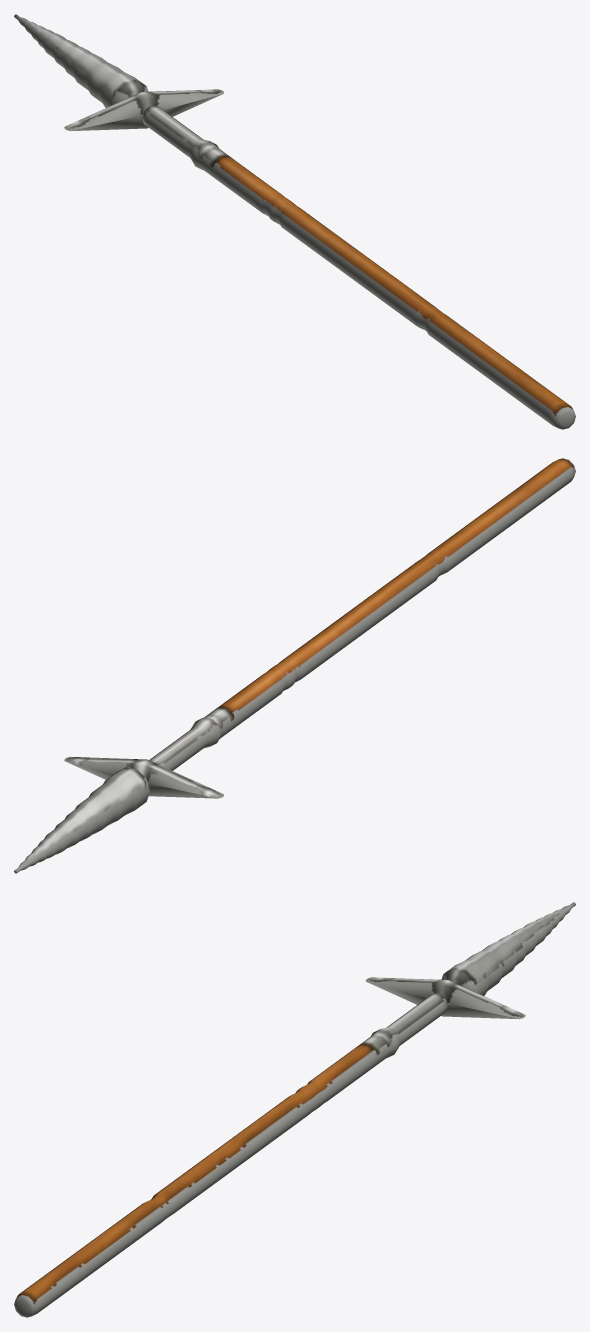
File: item_mm9_10057.glb
The picture shows the model from 3 angles, top to bottom: view 1: azimuth 30°, elevation 25°; view 2: azimuth 150°, elevation 25°; view 3: azimuth 330°, elevation 25°; orthographic projection.
Parts seen in each view (by area): view 1: d10057; view 2: d10057; view 3: d10057.
Part boxes in pixels (bbox=[...]): d10057: bbox=[14, 14, 575, 429]; d10057: bbox=[14, 458, 575, 873]; d10057: bbox=[14, 902, 575, 1317].
Bounding box in the file's own units: 42.45 × 9.45 × 257.
1 material, 1 textured.
